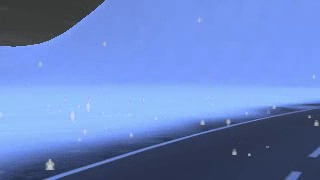Lane: (43, 106, 319, 179)
